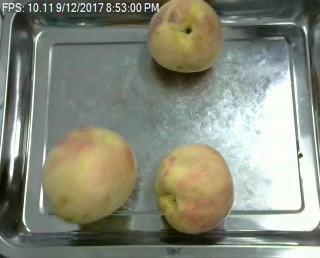Peach: (43, 126, 136, 224), (155, 142, 234, 234), (147, 0, 223, 73)
